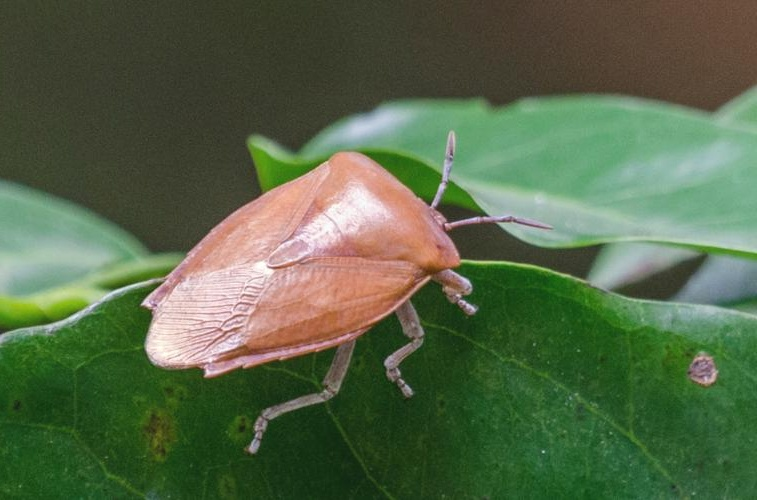Stink_Bug: (143, 153, 467, 388)
